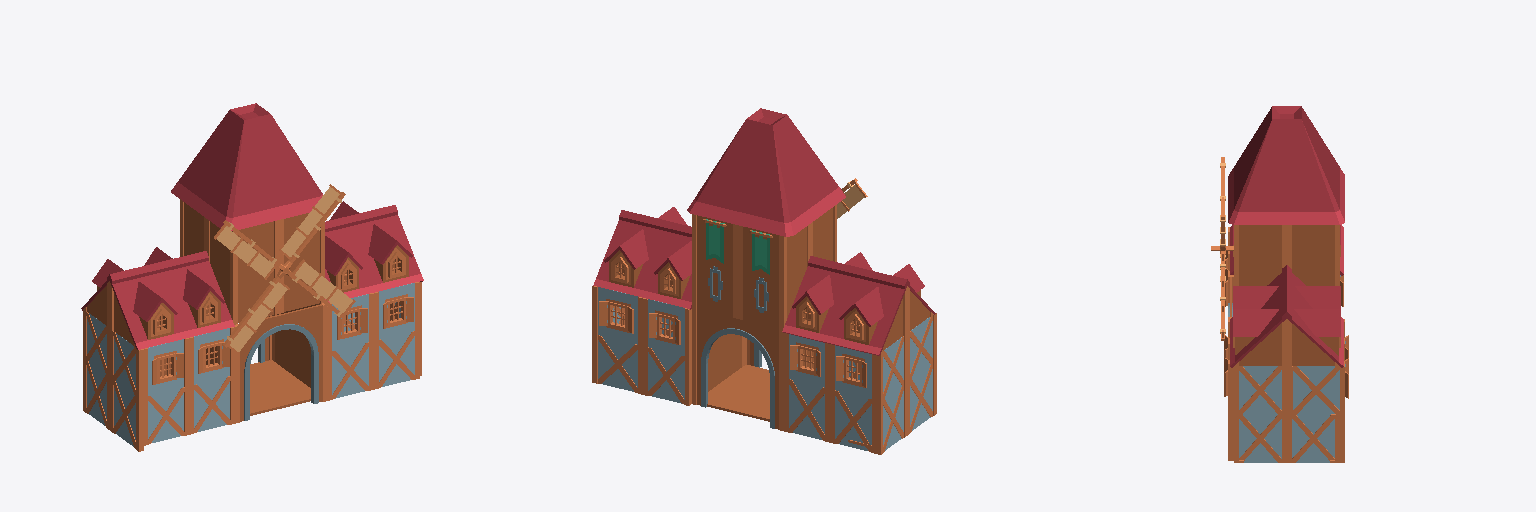
Rendered from model_casa_EXPORT.obj.
3 views of the same model, side by side, from view 1: azimuth 30°, elevation 25°; view 2: azimuth 150°, elevation 25°; view 3: azimuth 270°, elevation 25° (orthographic).
Size of the model in its own units: 6.2 by 5.9 by 2.61.